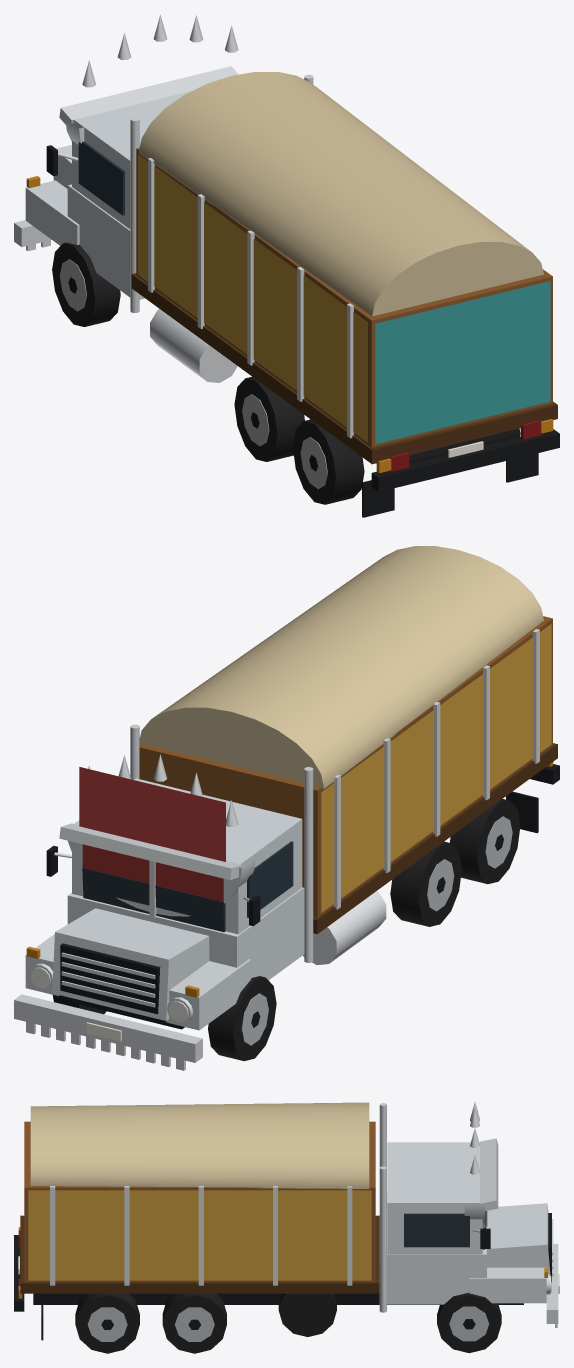
The model's file is truck.glb.
3 renders of one model, top to bottom at view 1: azimuth 30°, elevation 25°; view 2: azimuth 150°, elevation 25°; view 3: azimuth 270°, elevation 25°, orthographic. The views are drawn at different scales.
Parts seen in each view (by area): view 1: cargo_tarp, art_side_L, art_rear, bed_floor, bed_core, wheel_RL, cab_upper, wheel_ML, wheel_FL, cab_lower, bumper_r, fuel_tank (+13 smaller); view 2: cargo_tarp, art_side_L, bed_core, art_top, bonnet, cab_lower, cab_upper, bumper_f, wheel_ML, wheel_RL, windscreen_low, bed_floor (+16 smaller); view 3: art_side_R, cargo_tarp, cab_upper, bed_floor, cab_lower, bed_core, bonnet, wheel_MR, wheel_RR, wheel_FR, fender_R, chassis (+13 smaller).
Boxes of the visible parts, x1=… form: cargo_tarp: x1=138, y1=72, x2=543, y2=316; art_side_L: x1=138, y1=154, x2=367, y2=442; art_rear: x1=375, y1=281, x2=550, y2=444; bed_floor: x1=131, y1=273, x2=557, y2=464; bed_core: x1=136, y1=148, x2=552, y2=447; wheel_RL: x1=293, y1=419, x2=364, y2=504; cab_upper: x1=72, y1=91, x2=191, y2=229; wheel_ML: x1=234, y1=376, x2=304, y2=461; wheel_FL: x1=52, y1=242, x2=120, y2=326; cab_lower: x1=67, y1=184, x2=144, y2=299; bumper_r: x1=371, y1=429, x2=559, y2=491; fuel_tank: x1=150, y1=309, x2=237, y2=382; cargo_tarp: x1=139, y1=546, x2=543, y2=788; art_side_L: x1=321, y1=624, x2=551, y2=912; bed_core: x1=139, y1=616, x2=552, y2=917; art_top: x1=79, y1=767, x2=225, y2=861; bonnet: x1=52, y1=908, x2=209, y2=1020; cab_lower: x1=67, y1=887, x2=304, y2=980; cab_upper: x1=72, y1=778, x2=302, y2=934; bumper_f: x1=14, y1=994, x2=202, y2=1062; wheel_ML: x1=390, y1=841, x2=461, y2=926; wheel_RL: x1=450, y1=799, x2=520, y2=884; windscreen_low: x1=82, y1=867, x2=225, y2=932; bed_floor: x1=313, y1=743, x2=557, y2=934; art_side_R: x1=28, y1=1190, x2=371, y2=1280; cargo_tarp: x1=30, y1=1102, x2=369, y2=1188; cab_upper: x1=387, y1=1142, x2=482, y2=1254; bed_floor: x1=20, y1=1215, x2=379, y2=1293; cab_lower: x1=387, y1=1193, x2=486, y2=1304; bed_core: x1=24, y1=1121, x2=375, y2=1282; bonnet: x1=487, y1=1203, x2=551, y2=1288; wheel_MR: x1=162, y1=1293, x2=226, y2=1353; wheel_RR: x1=75, y1=1293, x2=139, y2=1353; wheel_FR: x1=437, y1=1292, x2=501, y2=1353; fender_R: x1=469, y1=1267, x2=546, y2=1303; chassis: x1=33, y1=1293, x2=523, y2=1304.
Bounding box in the file's own units: 2.76 × 3.64 × 8.45.
